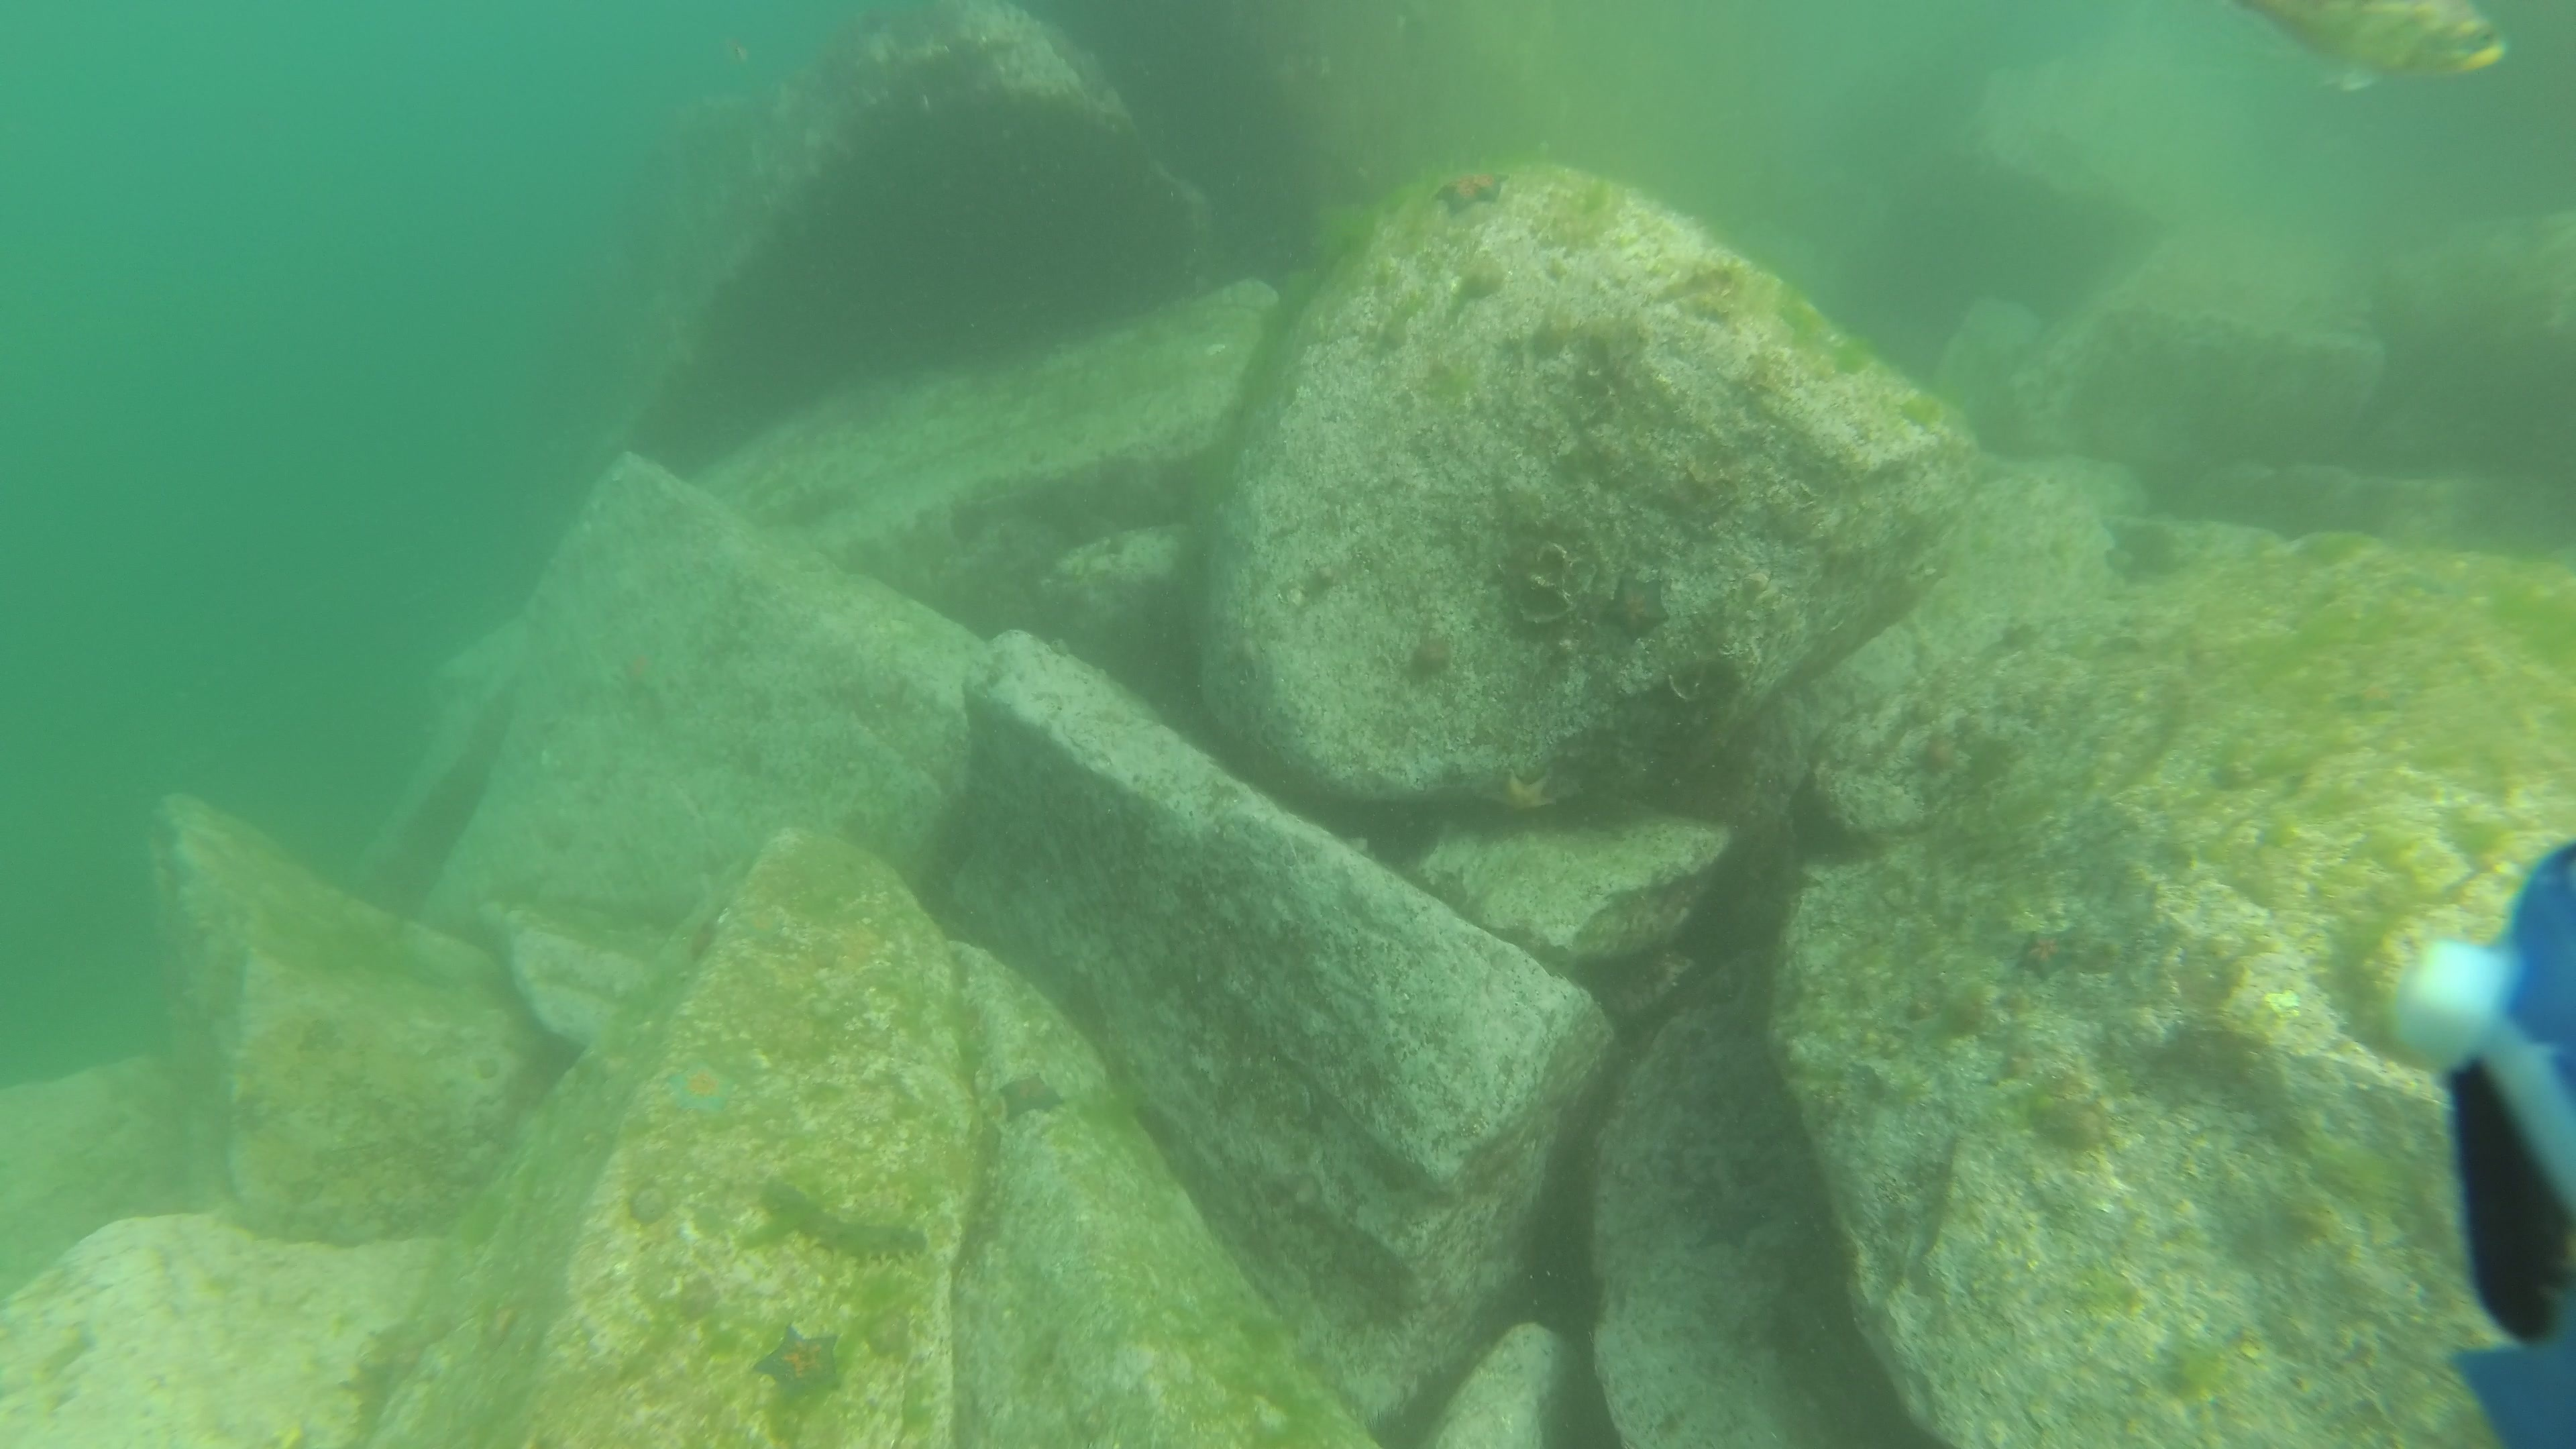holothurian: (754, 1162, 931, 1274)
starfish: (743, 1323, 849, 1407), (1470, 763, 1560, 828), (1599, 566, 1672, 646), (2010, 920, 2088, 989), (662, 1056, 743, 1118), (1424, 166, 1516, 211), (994, 1069, 1065, 1122)
